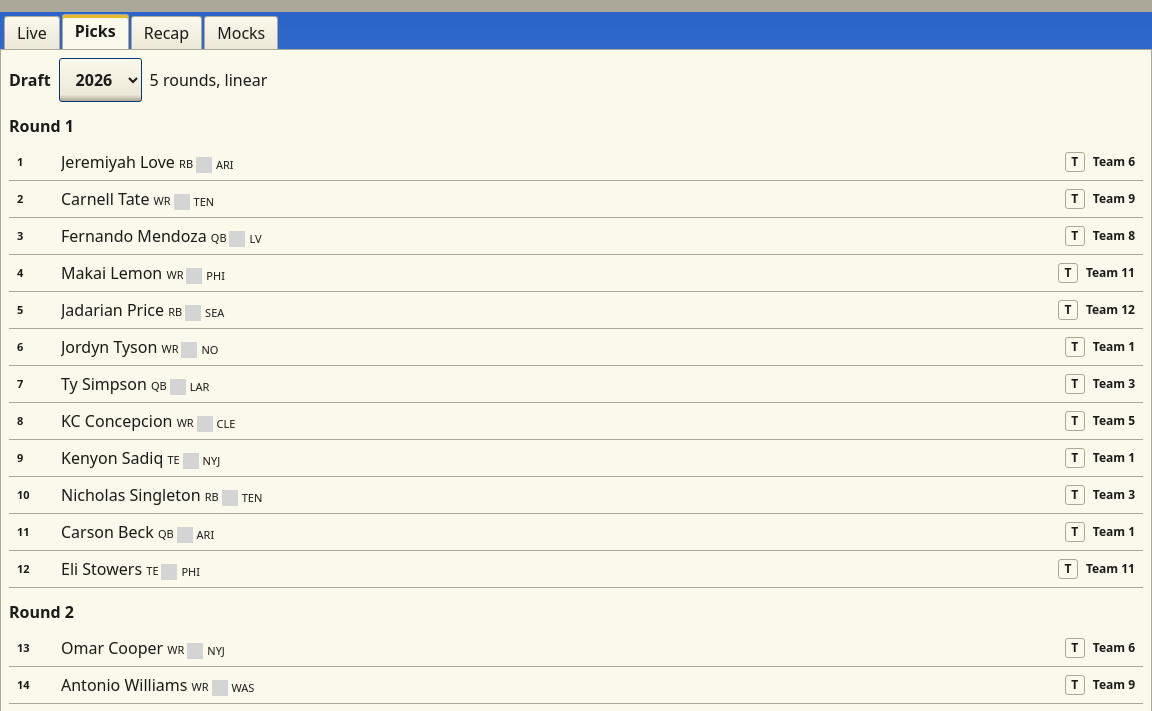
Test: Draft History: Picks › shows each finished draft's picks with who made them
This screenshot has width=1152, height=711.
Select "2025" in the dropdown labelled "Draft": (100, 80) [59,58,142,102]
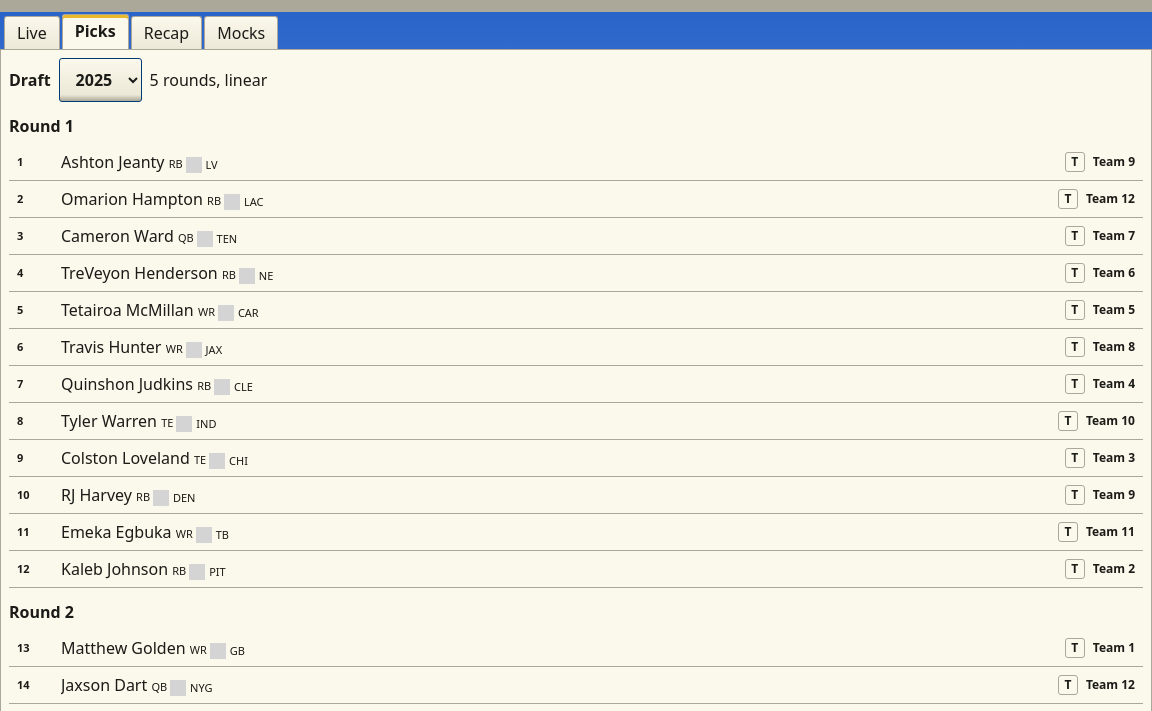
Expected: the list item "1 Ashton Jeanty RB LV T Team 9" is shown, [9,144,1143,181]
